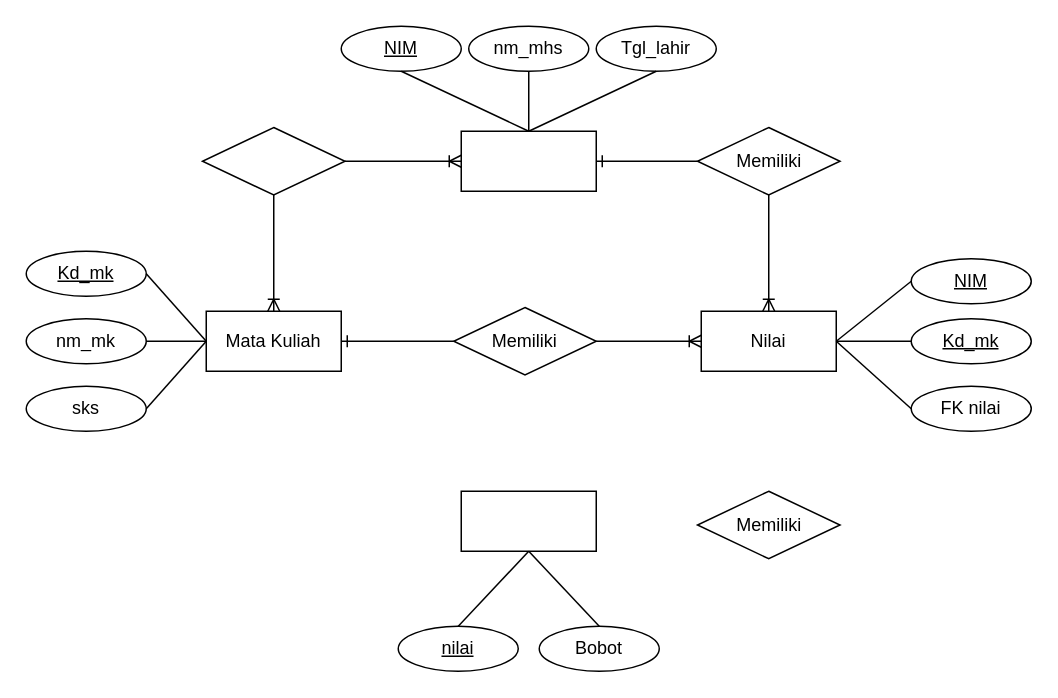
The diagram is 1058 pixels wide and 698 high, and some of its shapes have lost their labels. The box of each missing label's shape, as (x1, y1, x2, y2) in pixels:
Konversi Nilai: (460, 490, 596, 551)
Mahasiswa: (460, 130, 596, 191)
Mengambil: (201, 126, 345, 195)
